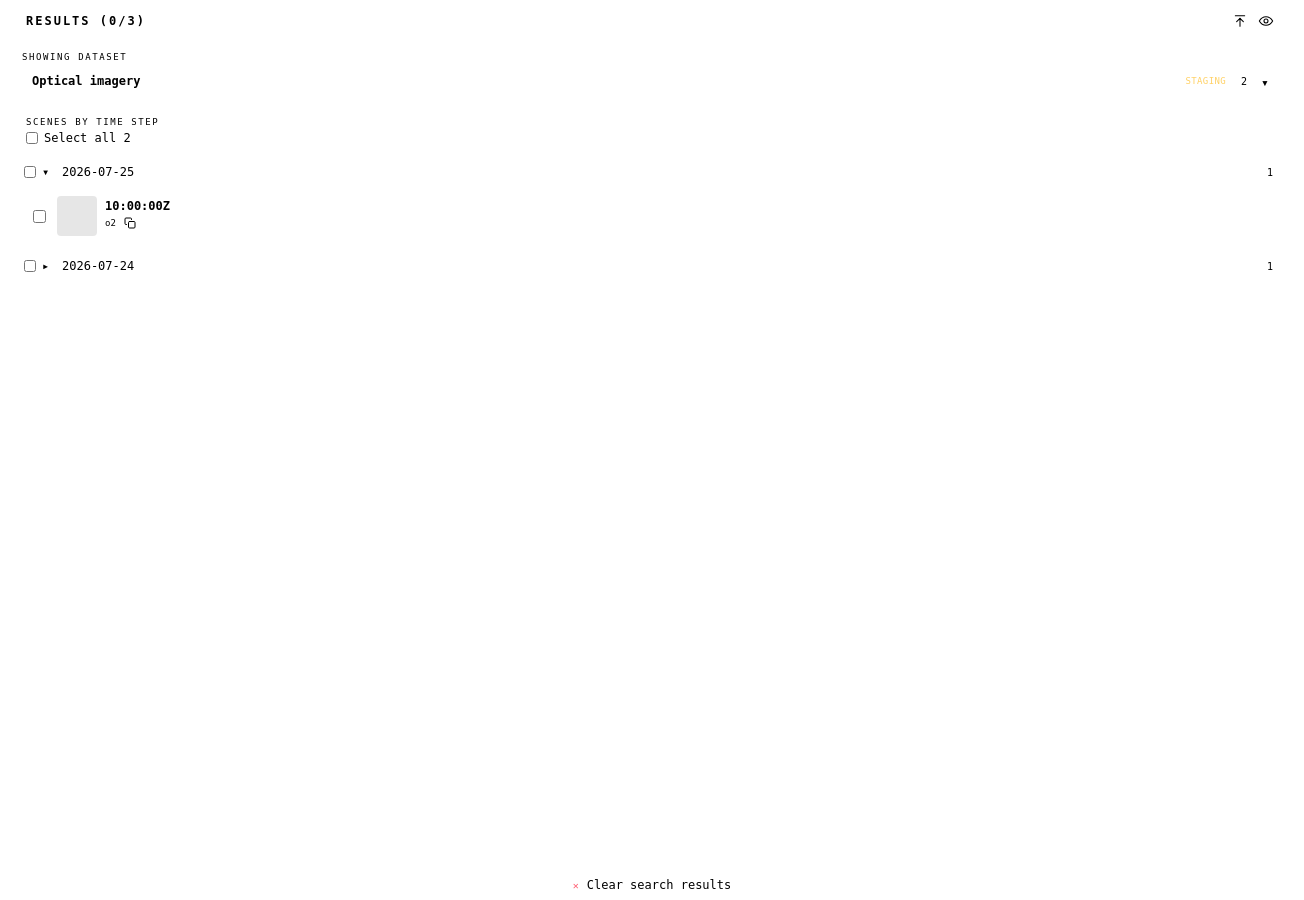
Test case: ResultsPanel dataset dropdown › the panel stays whatever is chosen — also a dataset without scenes
This screenshot has width=1304, height=900.
Click the button with class "dataset-select-box" at (86, 81), box [22,67,1282,95]
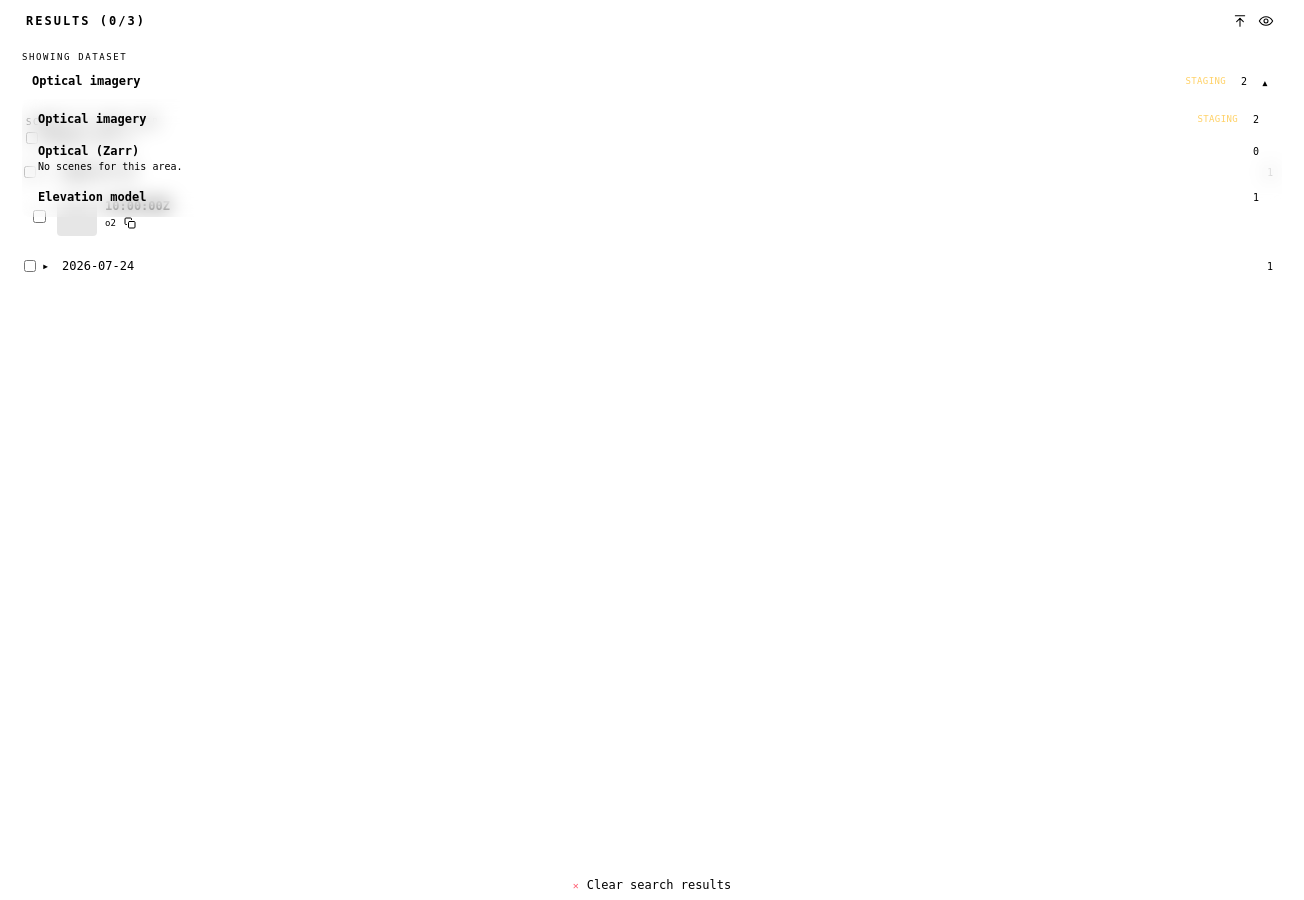
Click the option with class "dataset-select-option" that starts with "Optical (Zarr)" at (89, 151), box [28,137,1276,179]
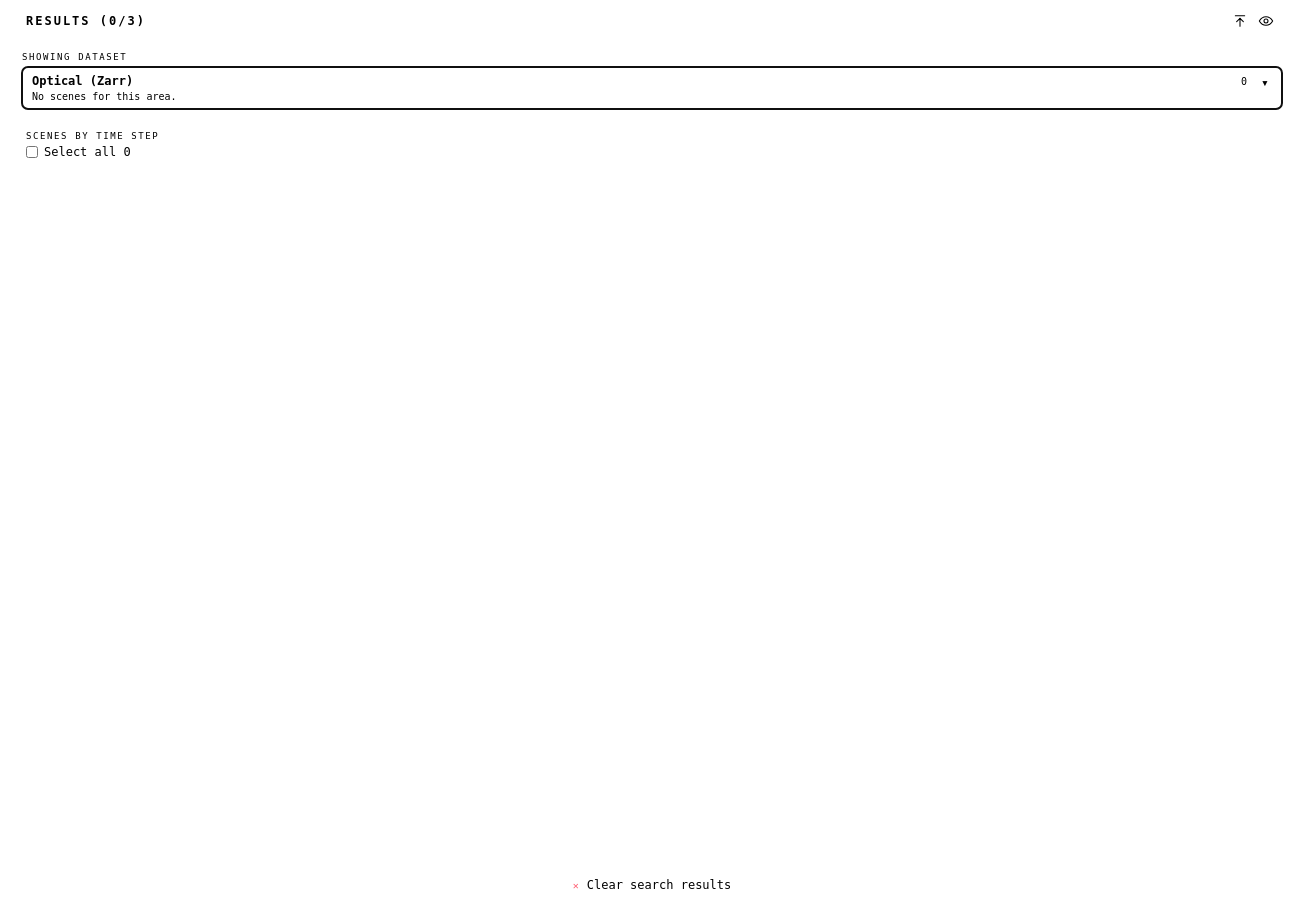
Expected: no elements with class "result-group" are shown
Expected: the button with class "dataset-select-box" shows "Optical (Zarr)"
Expected: the button with class "dataset-select-box" shows "No scenes for this area."
Click the button with class "dataset-select-box" at (83, 81), box [22,67,1282,109]
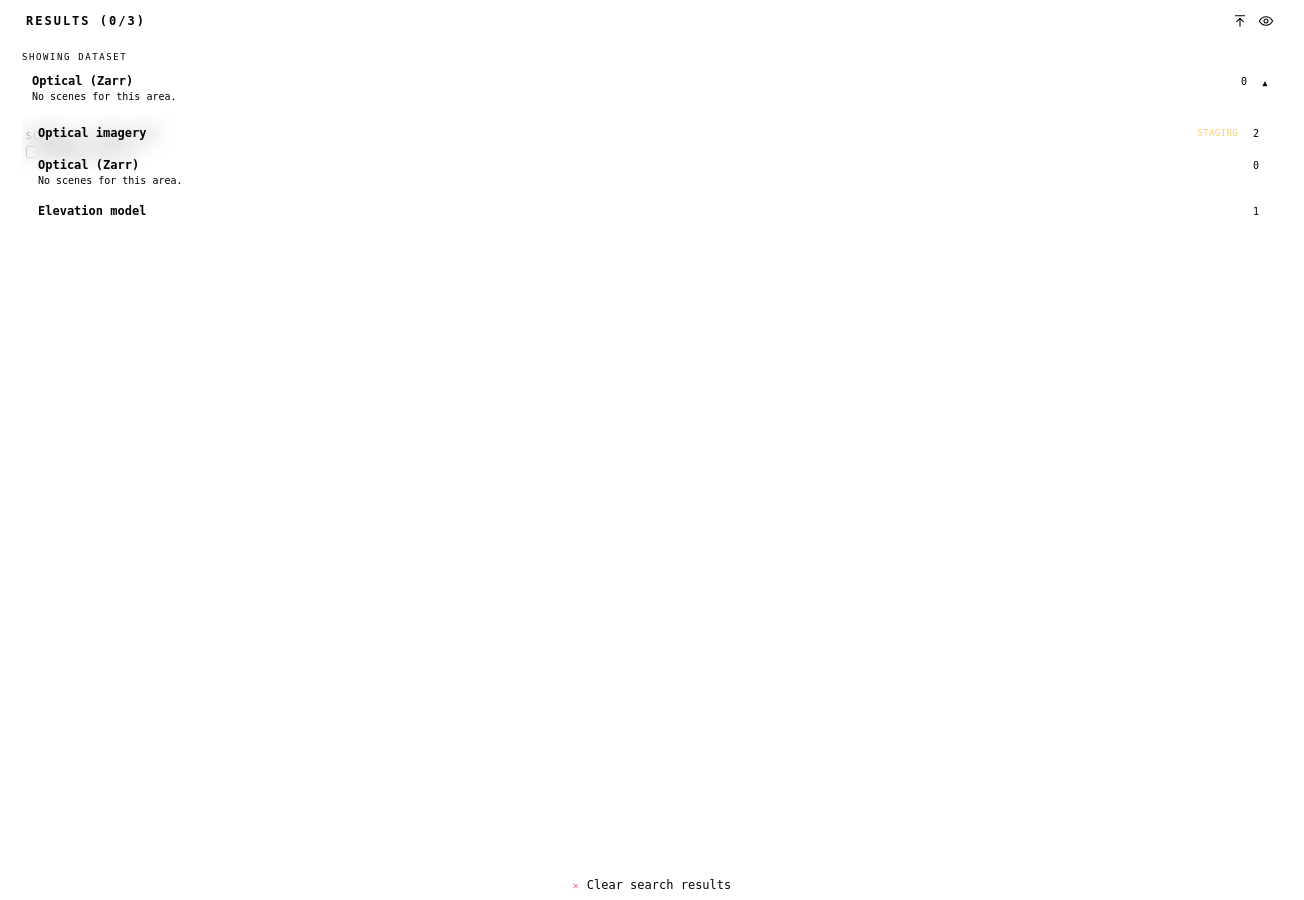
Click the option with class "dataset-select-option" showing "Optical imagery staging 2" at (92, 133), box [28,119,1276,147]
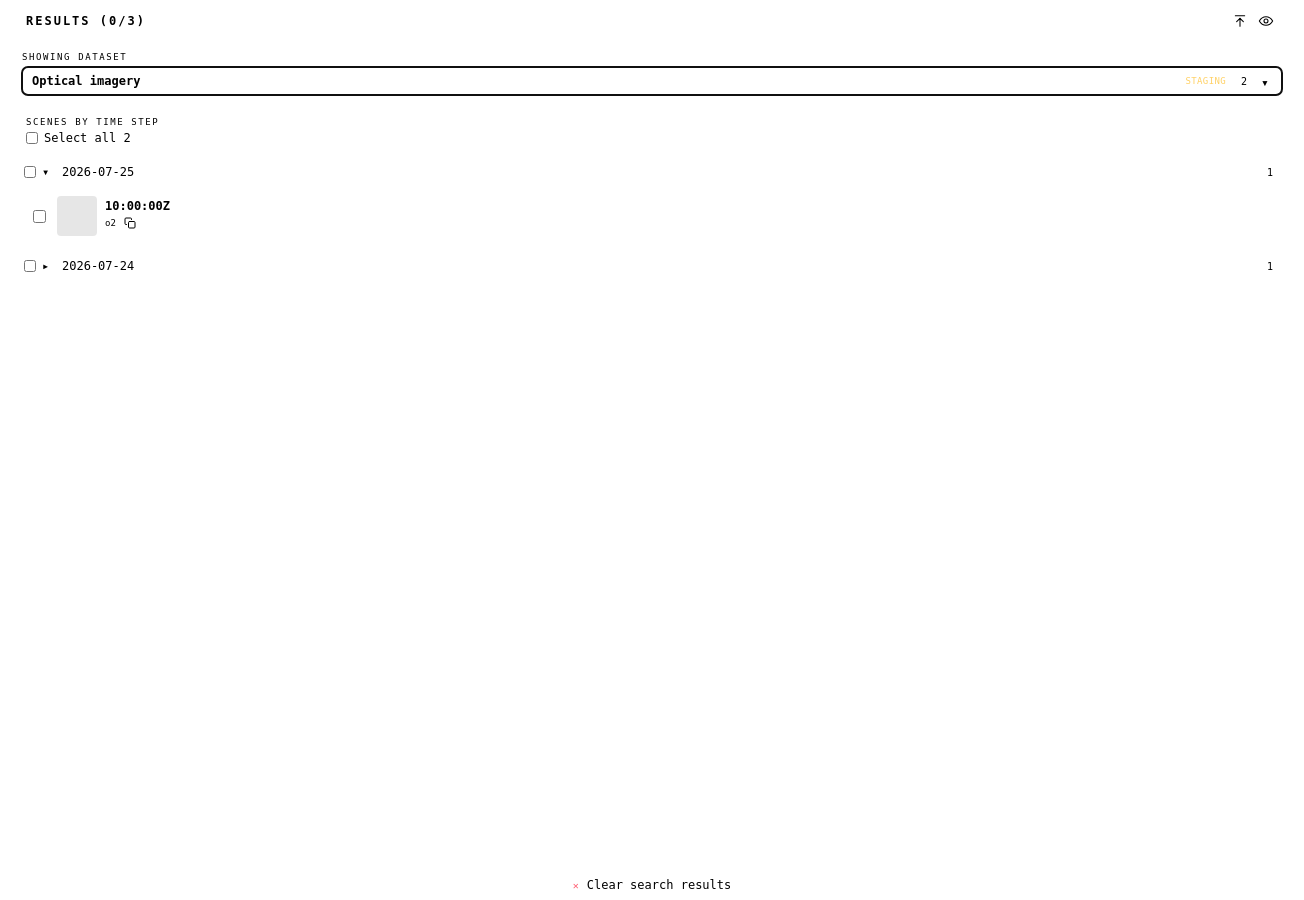
Expected: the number of elements with class "result-group" is 2, [18,155,1286,249]; [18,249,1286,283]
